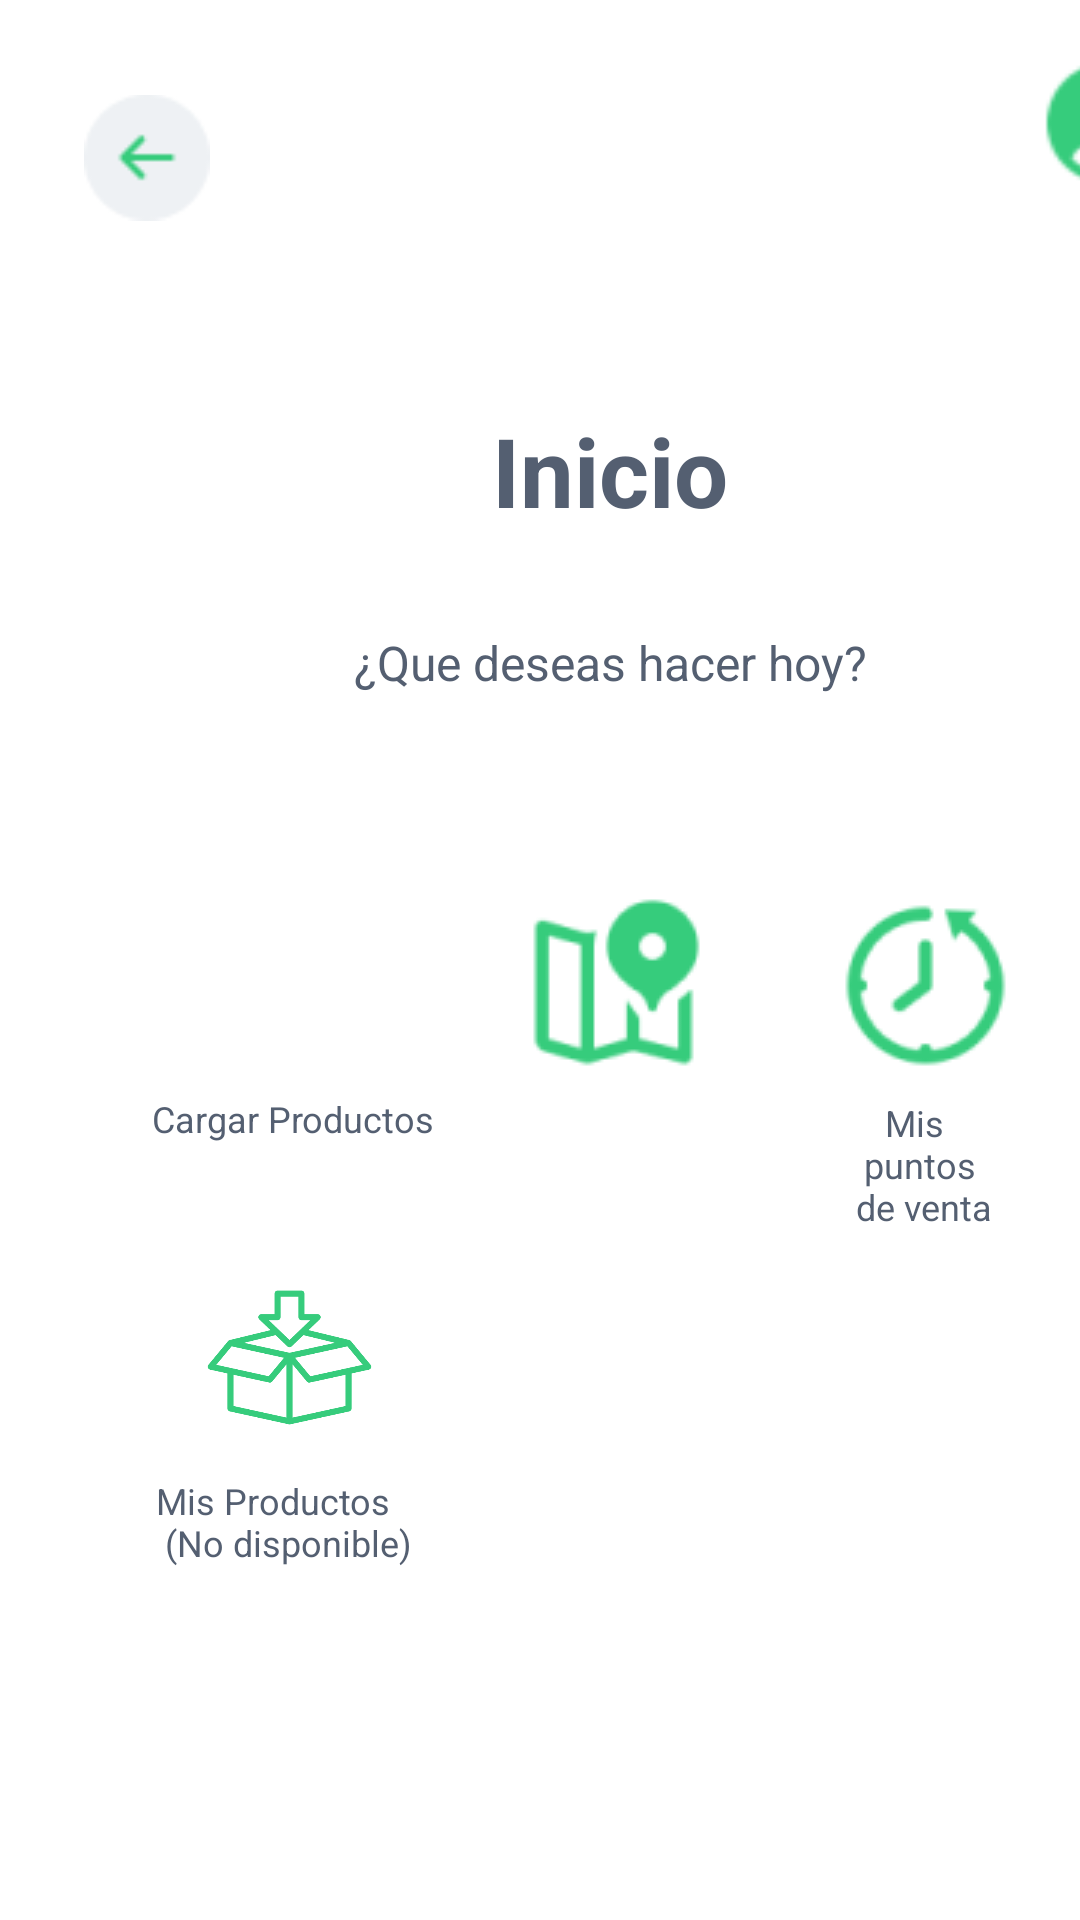

Icon click points for this 1080 × 1920 phone screenshot, format [x,y]:
historial: [925,985]
mapa: [616,982]
paquete: [289,1357]
Regresar: [147,158]
